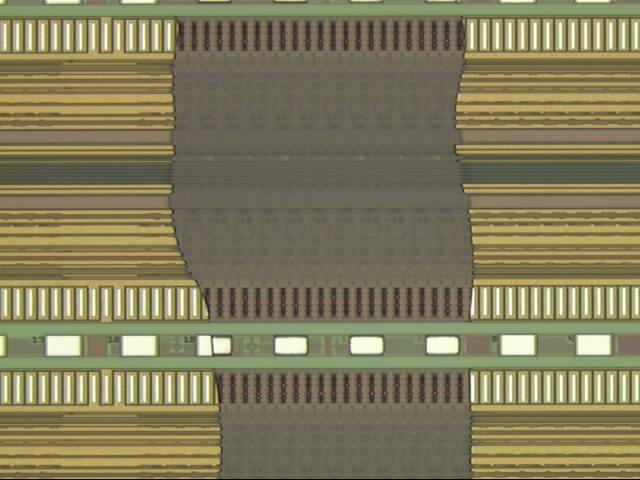BLOCK ETCH: (170, 16, 477, 480)
